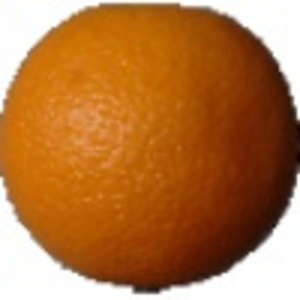laranja: (3, 4, 294, 297)
